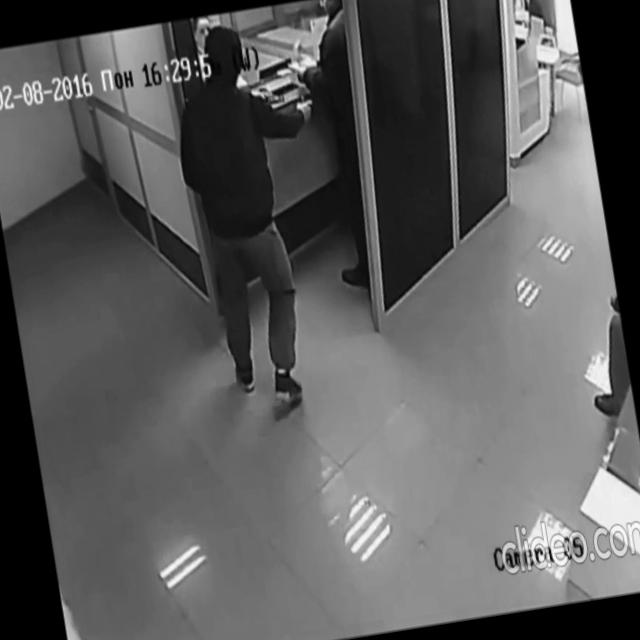gun: (296, 89, 322, 122)
person with a gun: (160, 10, 366, 413)
